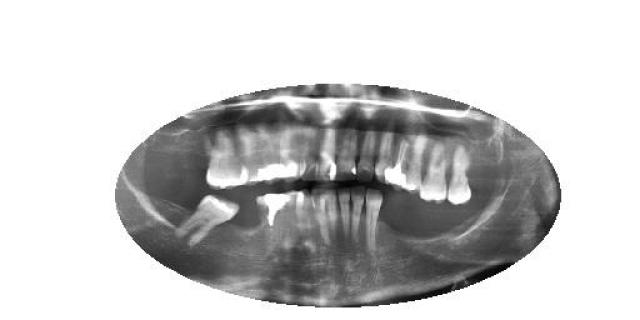Fillings: (251, 121, 281, 182)
Implant: (256, 192, 288, 240), (385, 132, 410, 188)
Restorations: (176, 195, 242, 246)
